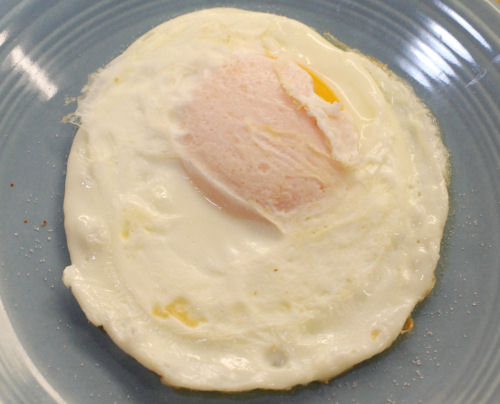fried_eggs: (59, 9, 450, 396)
